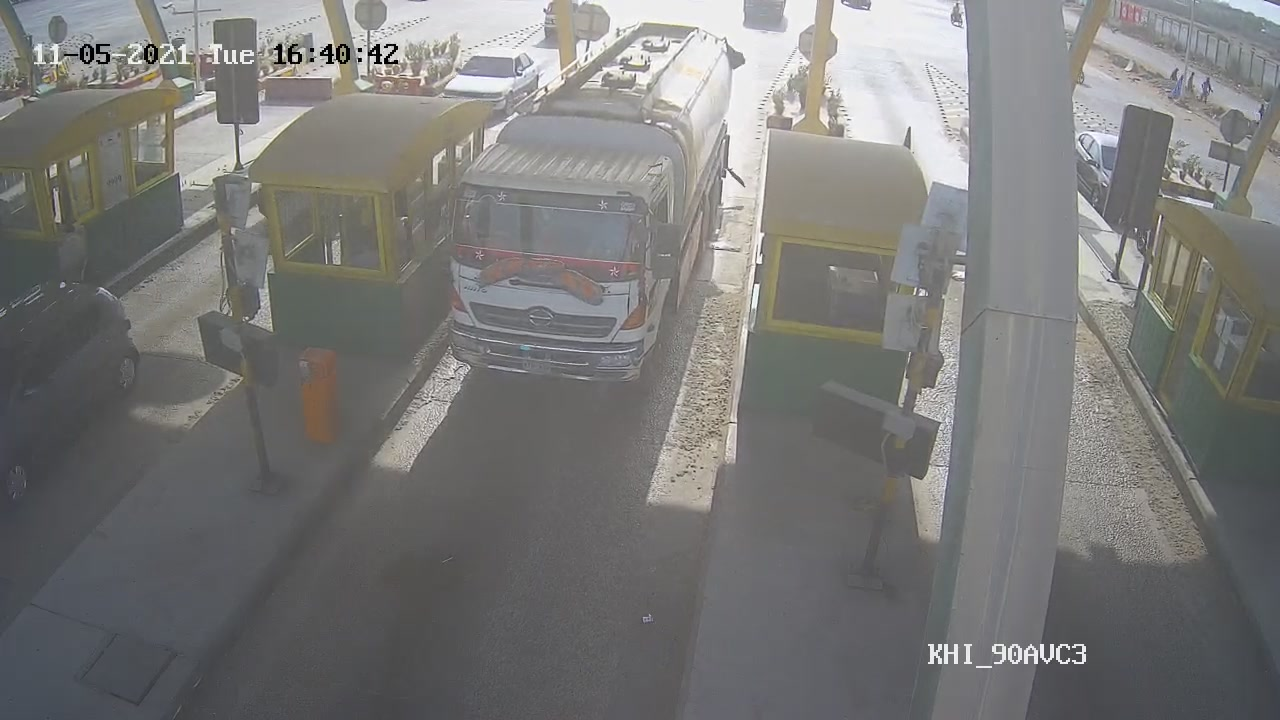F6: (444, 19, 736, 399)
